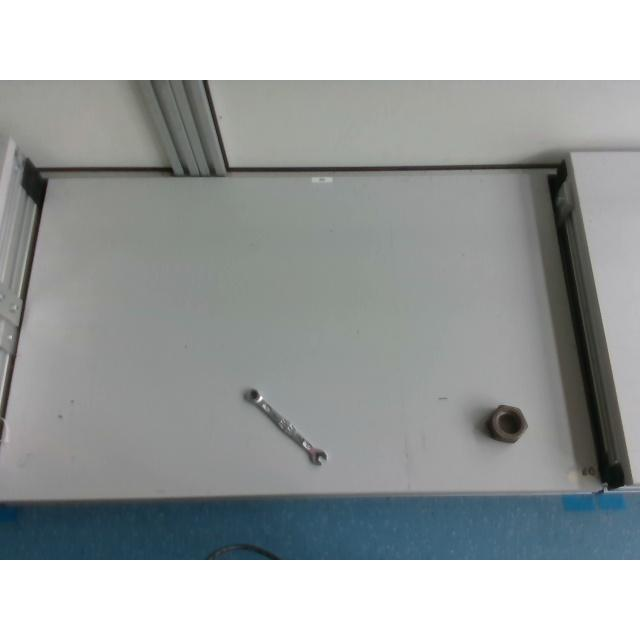M30: (485, 404, 529, 444)
Wrench: (245, 388, 328, 464)
